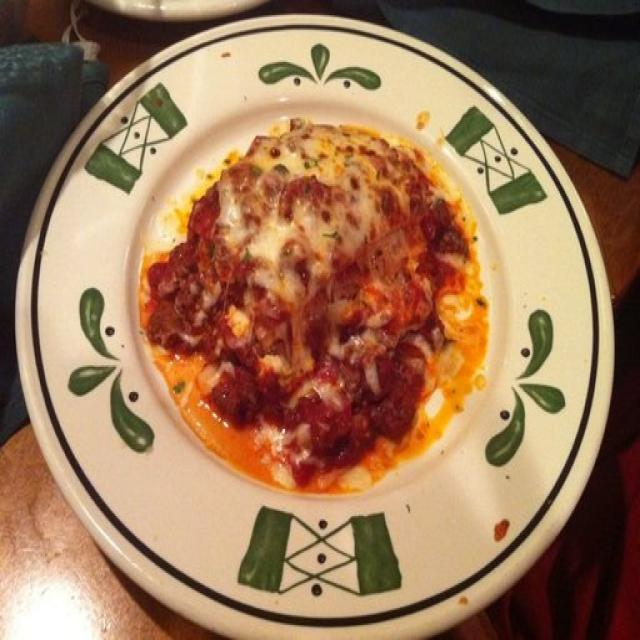Lasagna: (170, 134, 445, 456)
